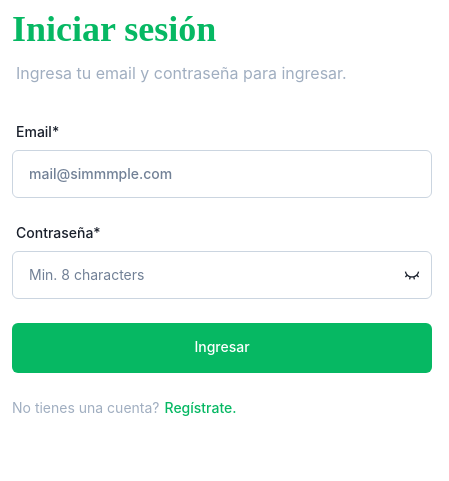
Test case: FormL Component › debería mostrar un mensaje de error si el email o la contraseña están vacíos
Click the button "Ingresar" at (222, 348), box x1=12 y1=323 x2=432 y2=373
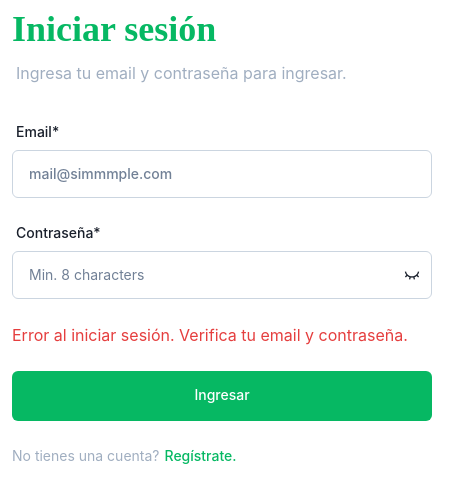
Expected: the text "Error al iniciar sesión. Verifica tu email y contraseña." is shown, x1=12 y1=323 x2=432 y2=347
